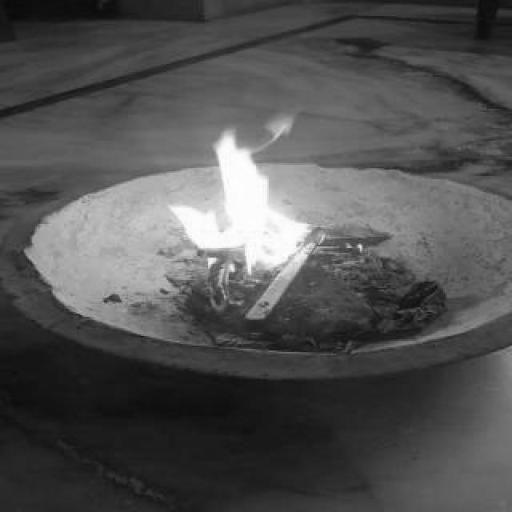smoke: (171, 114, 338, 272)
